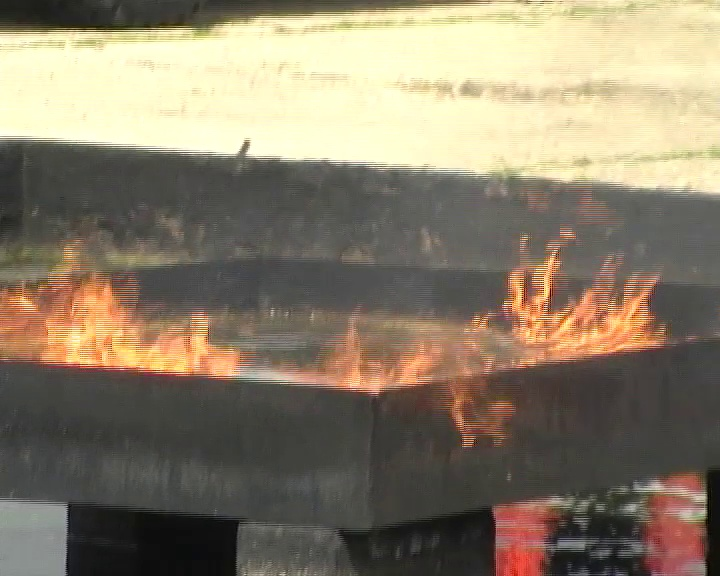fire: (3, 263, 230, 376), (489, 232, 664, 360), (325, 310, 430, 388), (454, 388, 518, 442)
